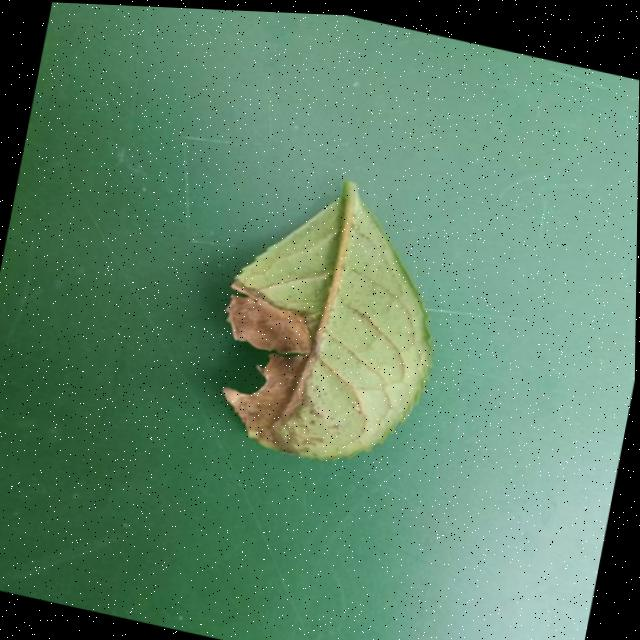Tea cloud leaf blight: (203, 274, 329, 441)
